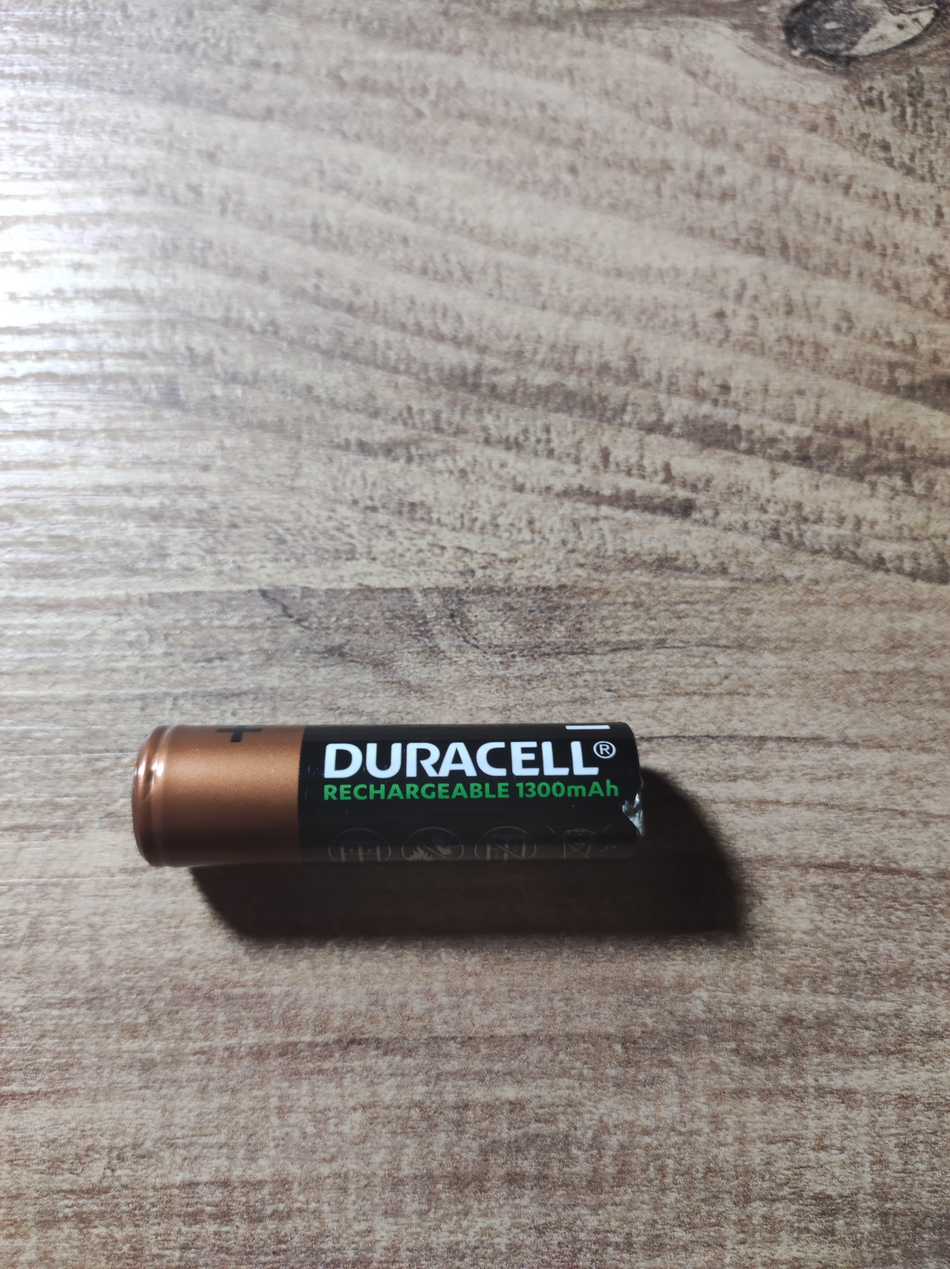AA: (131, 719, 645, 869)
